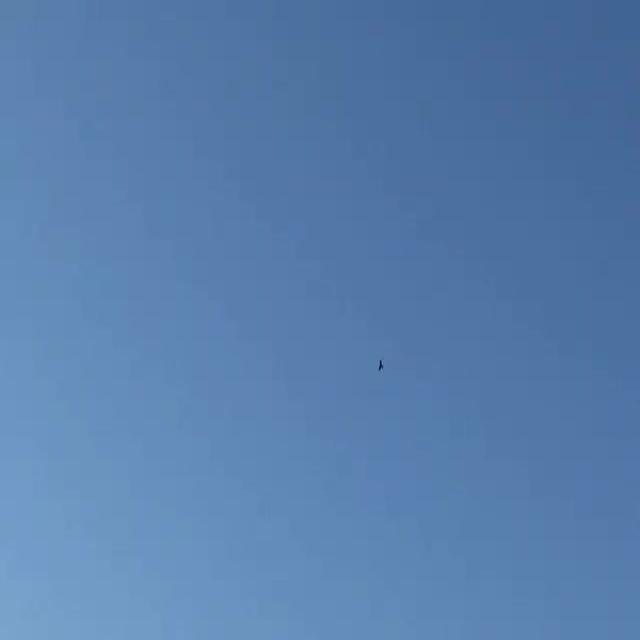bird: (377, 358, 387, 368)
